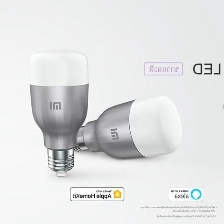light_bulb: (23, 44, 94, 182), (58, 91, 186, 163)
